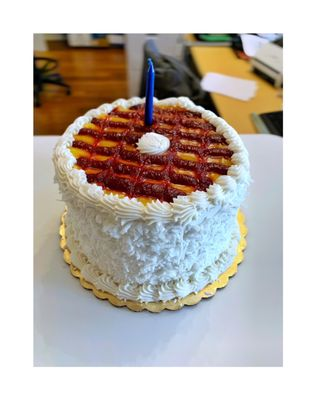sushi: (52, 89, 252, 313)
